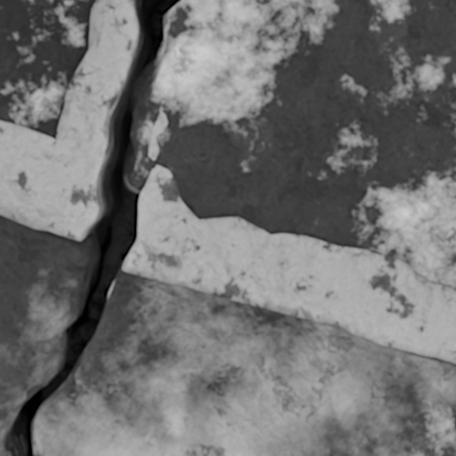brick: (144, 0, 455, 288), (0, 0, 94, 138)
broken_brick: (35, 272, 455, 455), (0, 214, 86, 455)
crack: (1, 0, 182, 455)
